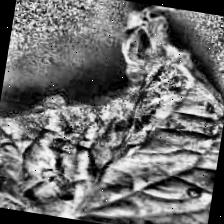disease: (0, 0, 224, 224), (64, 174, 66, 176)
